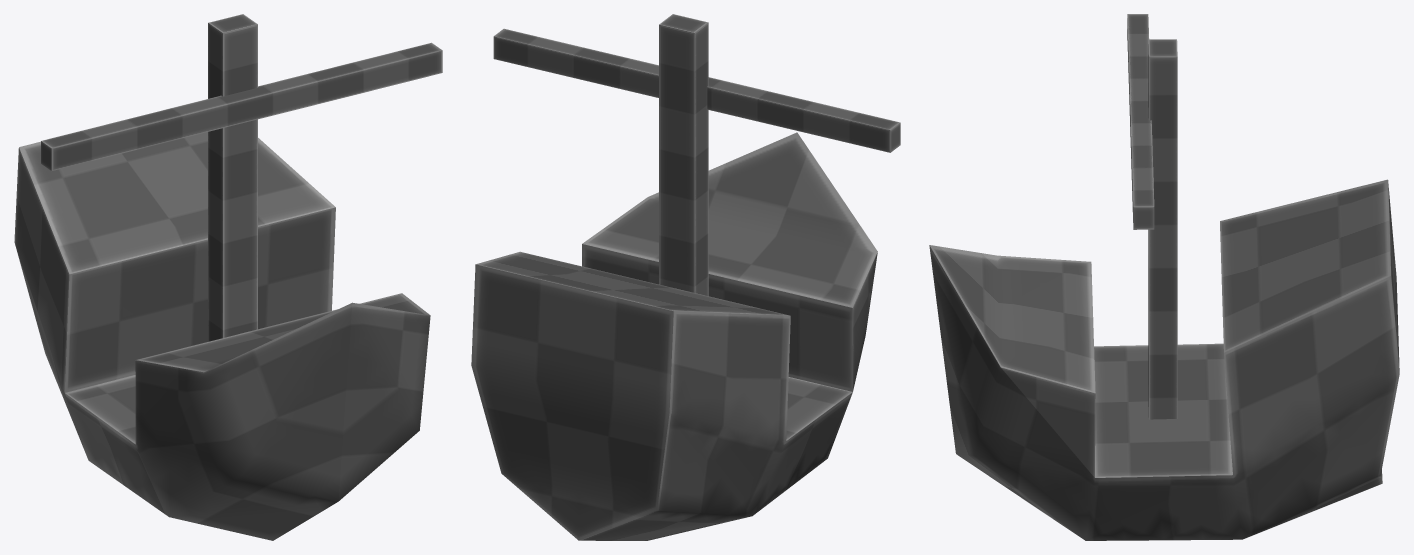
The model's file is boat2086.FBX.
The picture shows the model from 3 angles, left to right: view 1: azimuth 30°, elevation 25°; view 2: azimuth 150°, elevation 25°; view 3: azimuth 270°, elevation 25°; orthographic projection.
Parts seen in each view (by area): view 1: boat; view 2: boat; view 3: boat.
Boxes of the visible parts, left/top/right/bottom form: boat: left=14, top=14, right=442, bottom=540; boat: left=471, top=14, right=900, bottom=540; boat: left=929, top=14, right=1399, bottom=540.
Size of the model in its own units: 66.51 by 78.78 by 68.47.
